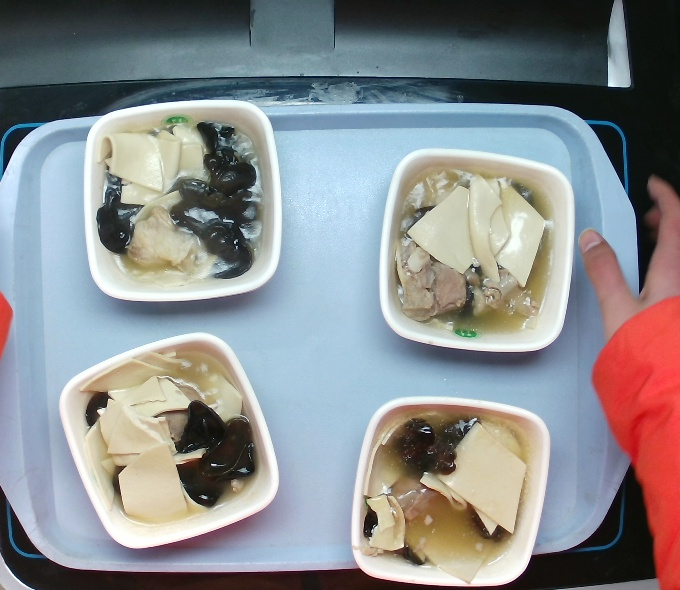wcq-QianZhangMuErTang: (66, 340, 276, 537), (380, 143, 569, 354), (359, 402, 537, 578), (95, 112, 269, 289)
